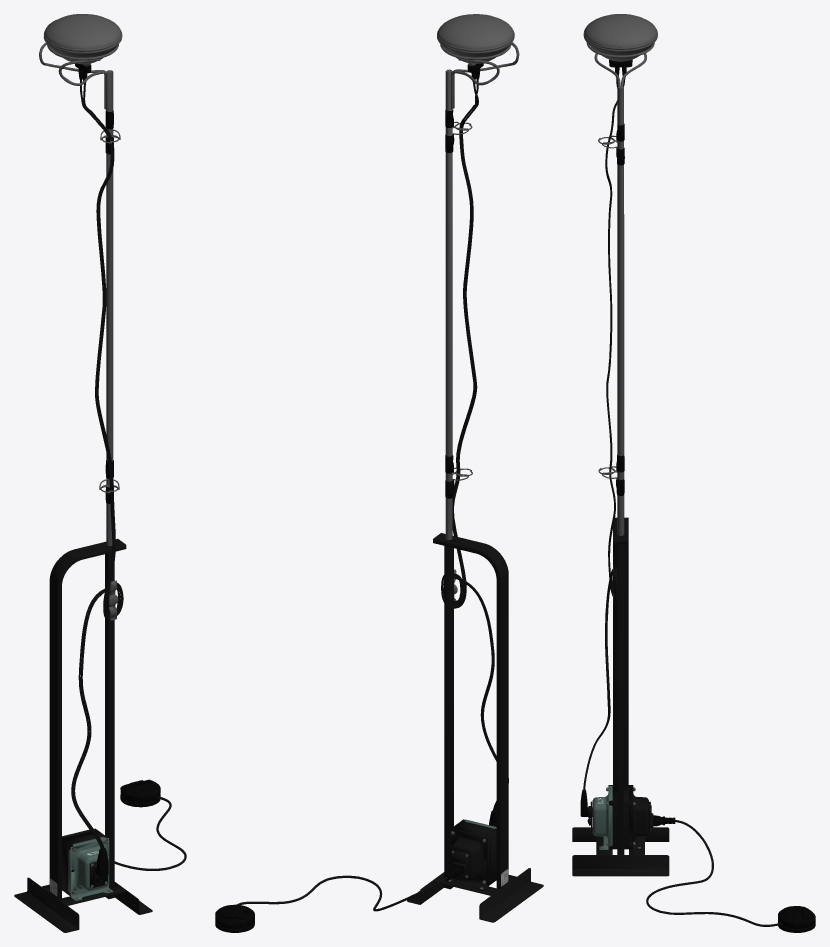
File: dimensiva-toio-led-floor-lamp-by-flos.optimized.glb
The picture shows the model from 3 angles, left to right: view 1: azimuth 30°, elevation 25°; view 2: azimuth 150°, elevation 25°; view 3: azimuth 270°, elevation 25°; orthographic projection. The views are drawn at different scales.
Parts seen in each view (by area): view 1: Toio Led Floor Lamp; view 2: Toio Led Floor Lamp; view 3: Toio Led Floor Lamp.
Part boxes in pixels (left/top/right/bottom): Toio Led Floor Lamp: left=14, top=14, right=186, bottom=932; Toio Led Floor Lamp: left=215, top=14, right=543, bottom=932; Toio Led Floor Lamp: left=572, top=14, right=815, bottom=932.
Bounding box in the file's own units: 0.5012 × 1.99 × 0.5275.
Materials: 3 (3 with a texture image).
